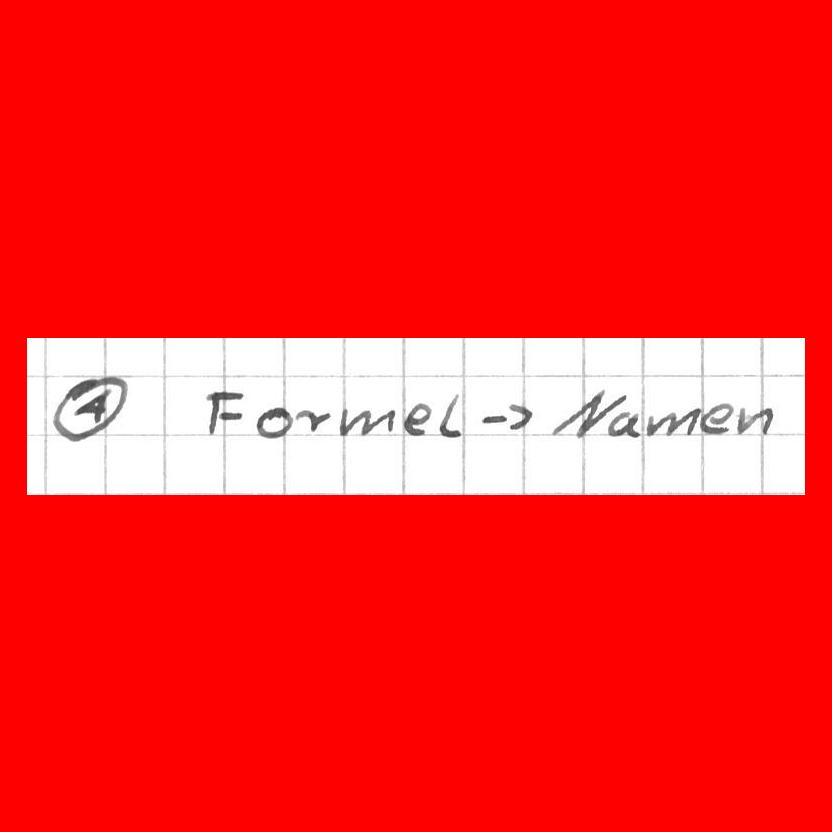Char: (51, 374, 126, 439), (551, 390, 619, 435), (202, 386, 247, 434), (645, 406, 700, 440), (339, 408, 396, 440), (436, 390, 466, 439), (255, 405, 292, 440), (736, 404, 773, 438), (403, 401, 432, 438), (702, 400, 731, 436), (606, 410, 642, 439), (293, 407, 330, 435), (507, 402, 534, 431), (478, 409, 507, 427)
